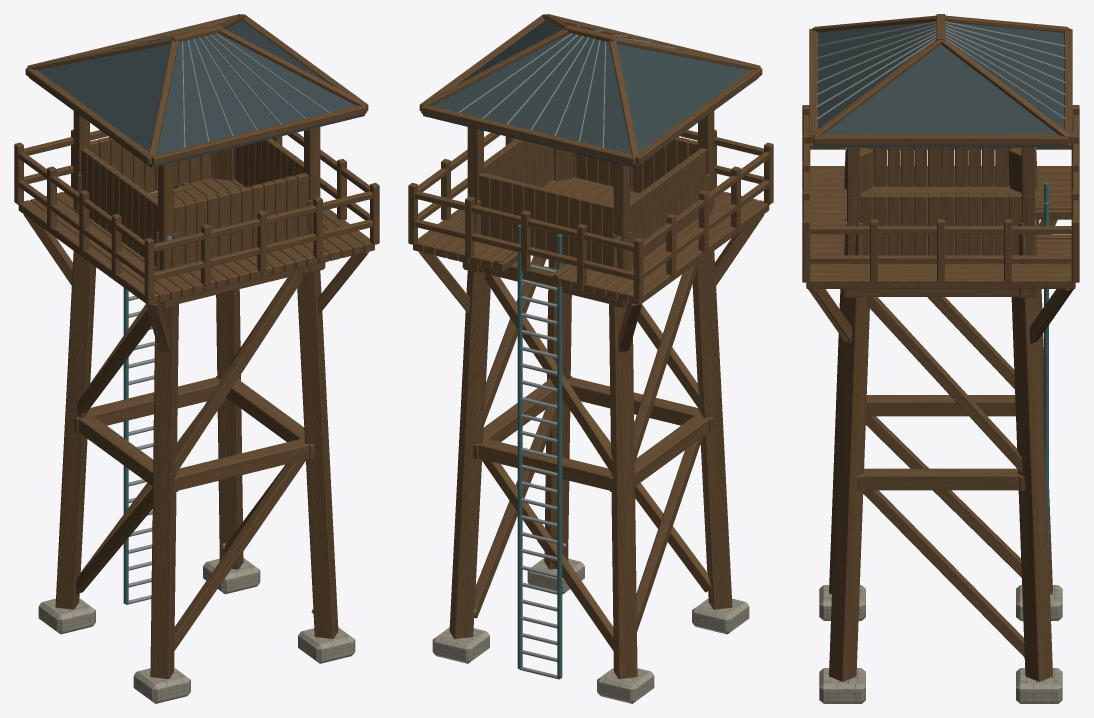
3 renders of one model, left to right at view 1: azimuth 30°, elevation 25°; view 2: azimuth 150°, elevation 25°; view 3: azimuth 270°, elevation 25°, orthographic. The views are drawn at different scales.
Parts seen in each view (by area): view 1: static_assembly_wood, static_assembly_dark, static_assembly_stone, static_assembly_bolt, static_assembly_steel; view 2: static_assembly_wood, static_assembly_dark, static_assembly_bolt, static_assembly_stone, static_assembly_steel; view 3: static_assembly_wood, static_assembly_dark, static_assembly_bolt, static_assembly_stone, static_assembly_steel.
Part boxes in pixels (box(x1,y1,x2,y2)): static_assembly_wood: box(14, 14, 379, 678); static_assembly_dark: box(29, 20, 364, 167); static_assembly_stone: box(38, 558, 355, 703); static_assembly_bolt: box(89, 24, 329, 613); static_assembly_steel: box(123, 287, 128, 603); static_assembly_wood: box(408, 14, 773, 678); static_assembly_dark: box(423, 20, 758, 167); static_assembly_bolt: box(458, 24, 698, 679); static_assembly_stone: box(432, 558, 749, 703); static_assembly_steel: box(517, 224, 562, 678); static_assembly_wood: box(802, 14, 1079, 681); static_assembly_dark: box(813, 22, 1068, 147); static_assembly_bolt: box(816, 21, 1065, 225); static_assembly_stone: box(819, 585, 1062, 703); static_assembly_steel: box(1044, 182, 1048, 559).
Size of the model in its own units: 4 by 10 by 4.
Materials: 5 (3 with a texture image).
